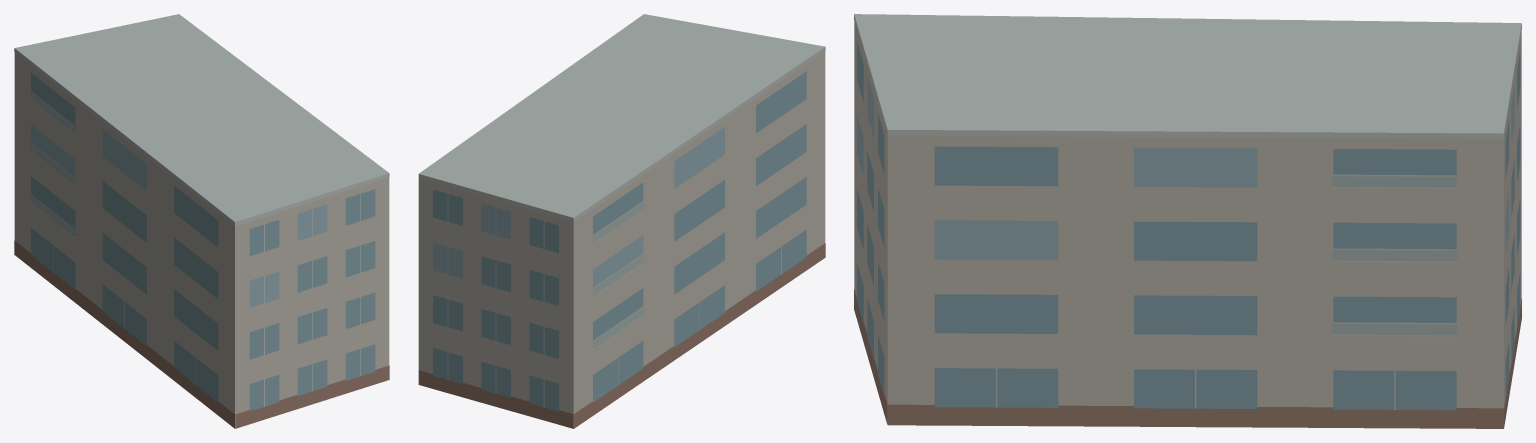
Rendered from survey-upis-32895236.glb.
3 renders of one model, left to right at view 1: azimuth 30°, elevation 25°; view 2: azimuth 150°, elevation 25°; view 3: azimuth 270°, elevation 25°, orthographic. The views are drawn at different scales.
Parts seen in each view (by area): view 1: survey-upis-32895236.tmp; view 2: survey-upis-32895236.tmp; view 3: survey-upis-32895236.tmp.
Boxes of the visible parts, x1=… form: survey-upis-32895236.tmp: x1=14, y1=14, x2=389, y2=428; survey-upis-32895236.tmp: x1=418, y1=14, x2=825, y2=428; survey-upis-32895236.tmp: x1=854, y1=14, x2=1521, y2=428.
Size of the model in its own units: 10.6 by 12.2 by 25.
